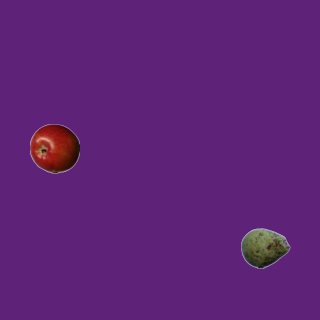Apple Braeburn: (29, 123, 79, 173)
Pear Stone: (240, 223, 290, 273)
